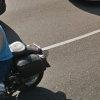Motorcycle: (6, 31, 54, 91)
